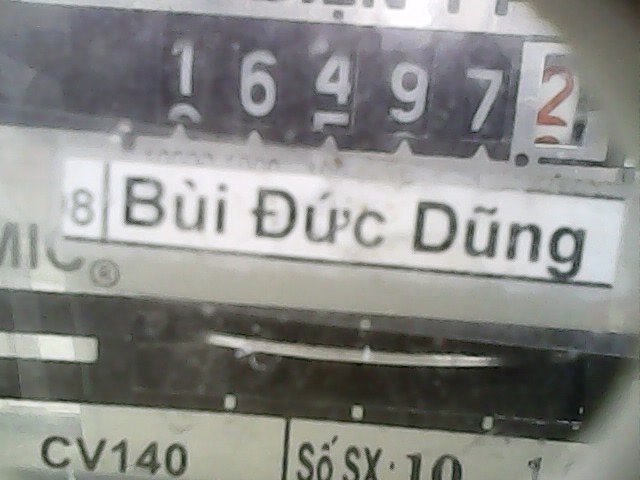phy_plate: (150, 13, 618, 169)
